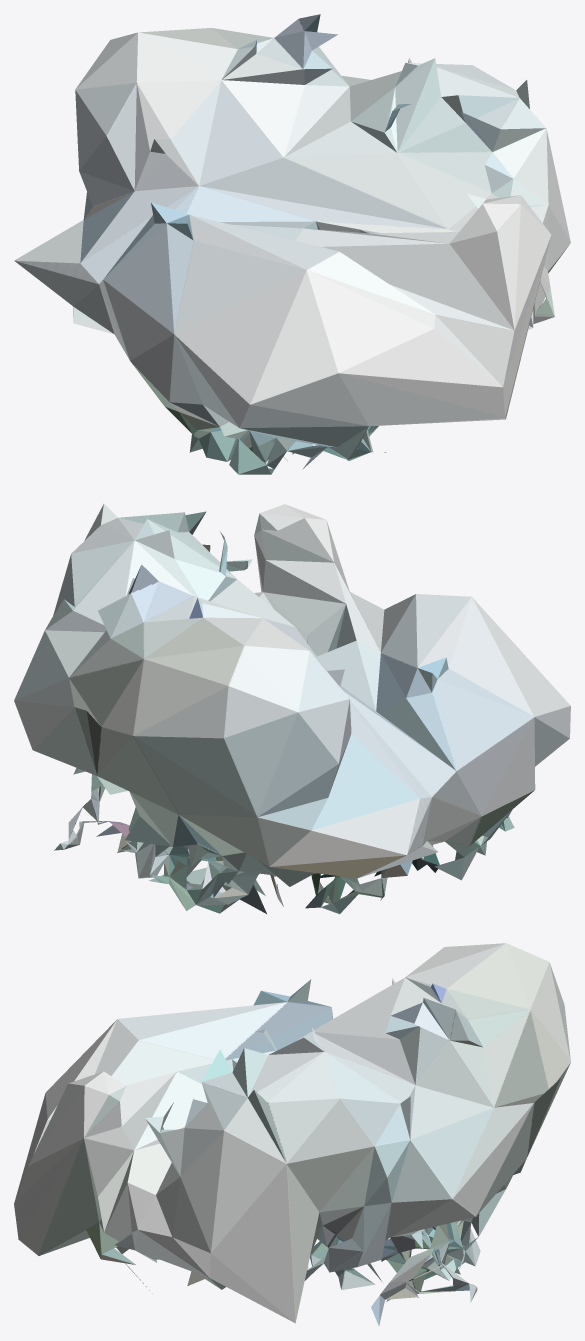
The model's file is CrumpledPaper.fbx.
3 views of the same model, one above another, from view 1: azimuth 30°, elevation 25°; view 2: azimuth 150°, elevation 25°; view 3: azimuth 270°, elevation 25° (orthographic). The views are drawn at different scales.
Parts seen in each view (by area): view 1: Mesh_0; view 2: Mesh_0; view 3: Mesh_0.
Part boxes in pixels (box(x1,y1,x2,y2)): Mesh_0: box(14, 14, 570, 474); Mesh_0: box(14, 504, 570, 914); Mesh_0: box(14, 943, 570, 1325).
Size of the model in its own units: 134 by 103 by 152.
1 material, 1 textured.
